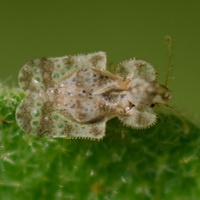insect: (16, 52, 169, 138)
